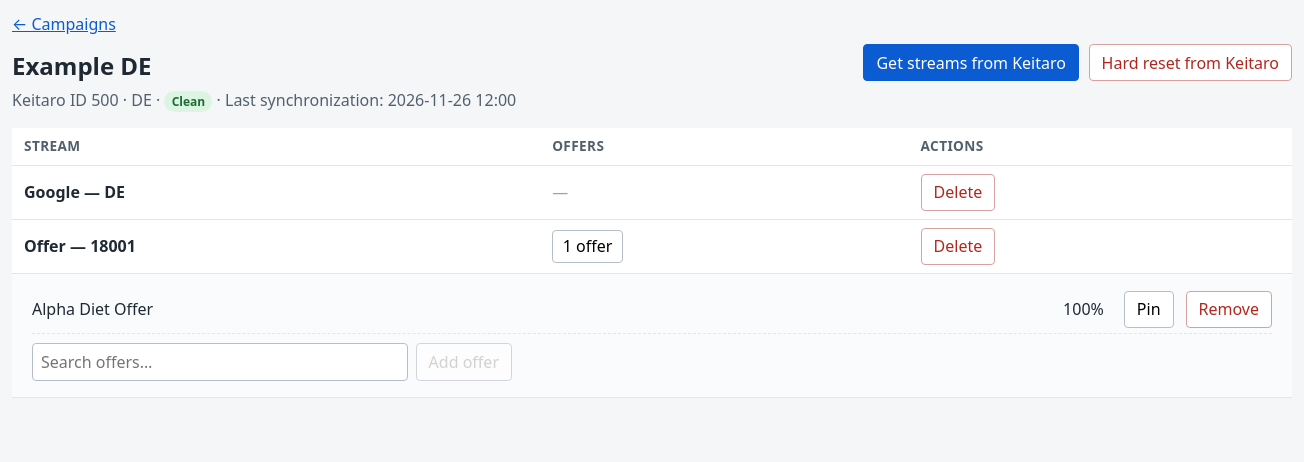
Test: CampaignEditorPage — offer editing › adds an offer selected from the exclusion-scoped autocomplete
The width and height of the screenshot is (1304, 462).
Type "beta" into the dropdown named "Search offers to add to Offer — 18001" at {"x": 220, "y": 362}, box [32,344,408,381]
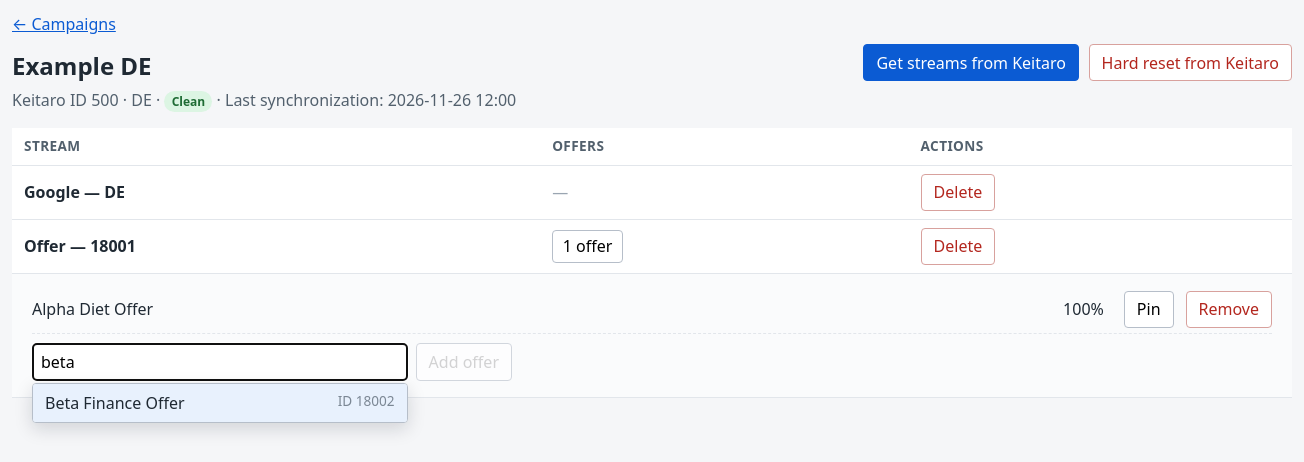
Click the option "Beta Finance Offer ID 18002" at {"x": 115, "y": 403}, box [33,384,407,422]
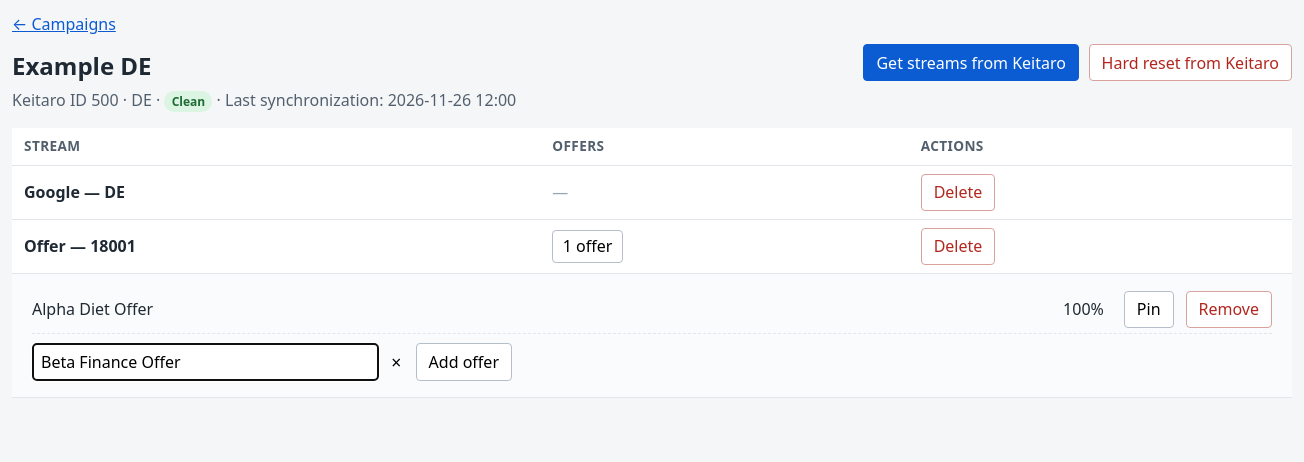
Click the button "Add offer" at {"x": 464, "y": 362}, box [416,344,512,381]
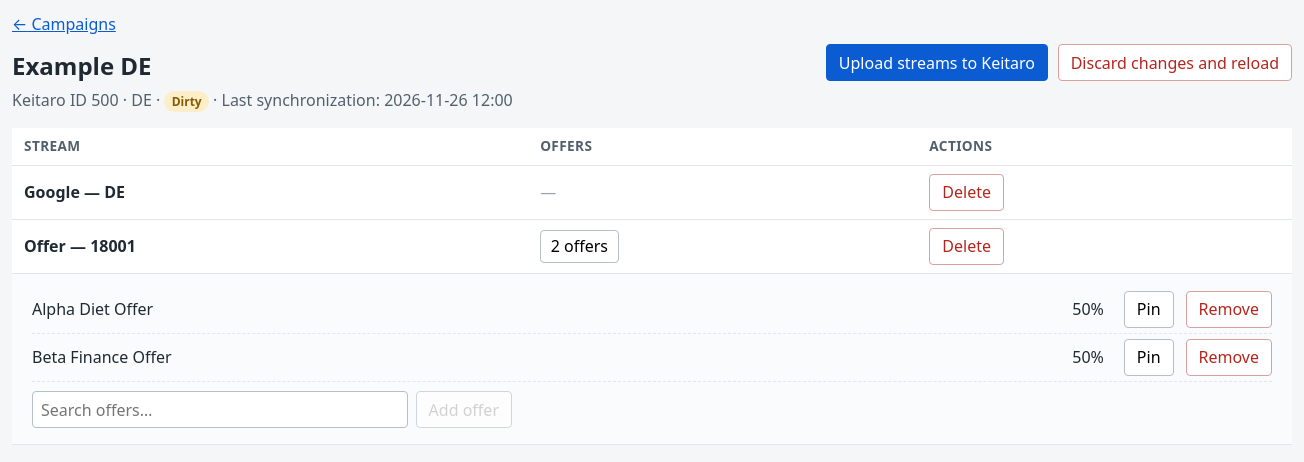
Check: the text "Offer — 18001" is shown, box [24,236,136,258]
Check: the text "Beta Finance Offer" is shown, box [32,346,172,368]
Check: the button "2 offers" is shown, box [540,230,619,263]
